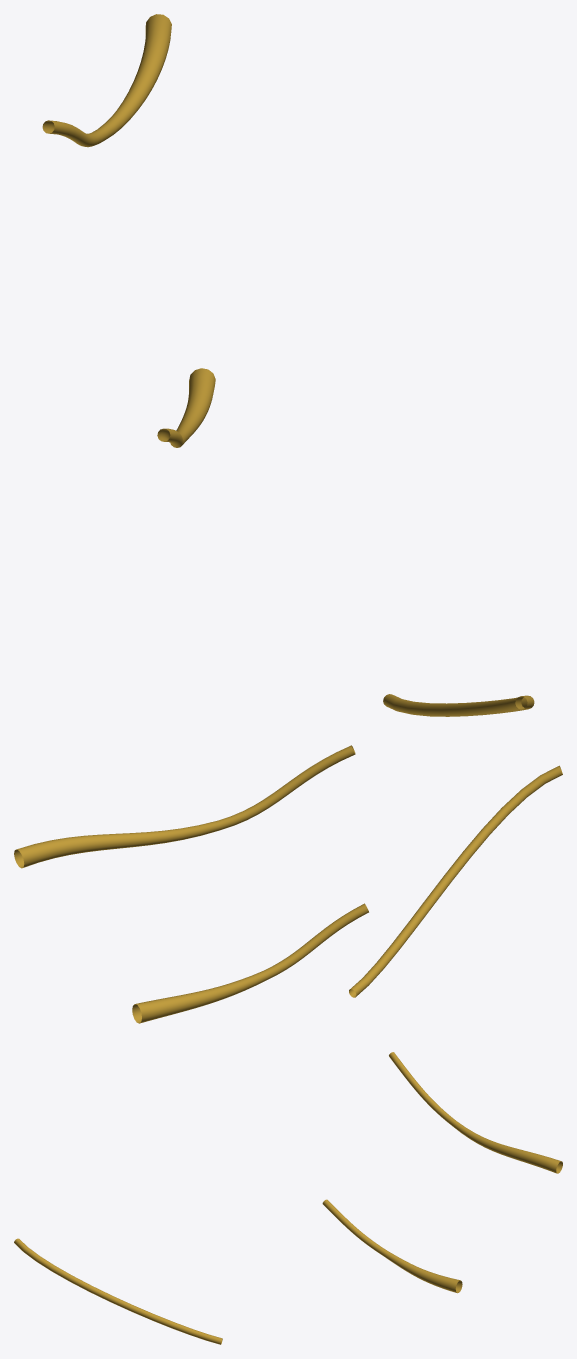
3 views of the same model, one above another, from view 1: azimuth 30°, elevation 25°; view 2: azimuth 150°, elevation 25°; view 3: azimuth 270°, elevation 25° (orthographic). The views are drawn at different scales.
Parts seen in each view (by area): view 1: 左侧股后皮神经前根; view 2: 左侧股后皮神经前根; view 3: 左侧股后皮神经前根.
Boxes of the visible parts, box(x1,y1,x2,y2) form: 左侧股后皮神经前根: box(42, 14, 534, 716); 左侧股后皮神经前根: box(14, 745, 562, 1023); 左侧股后皮神经前根: box(14, 1052, 562, 1344).
Size of the model in its own units: 0.0369 by 0.0608 by 0.1204.
